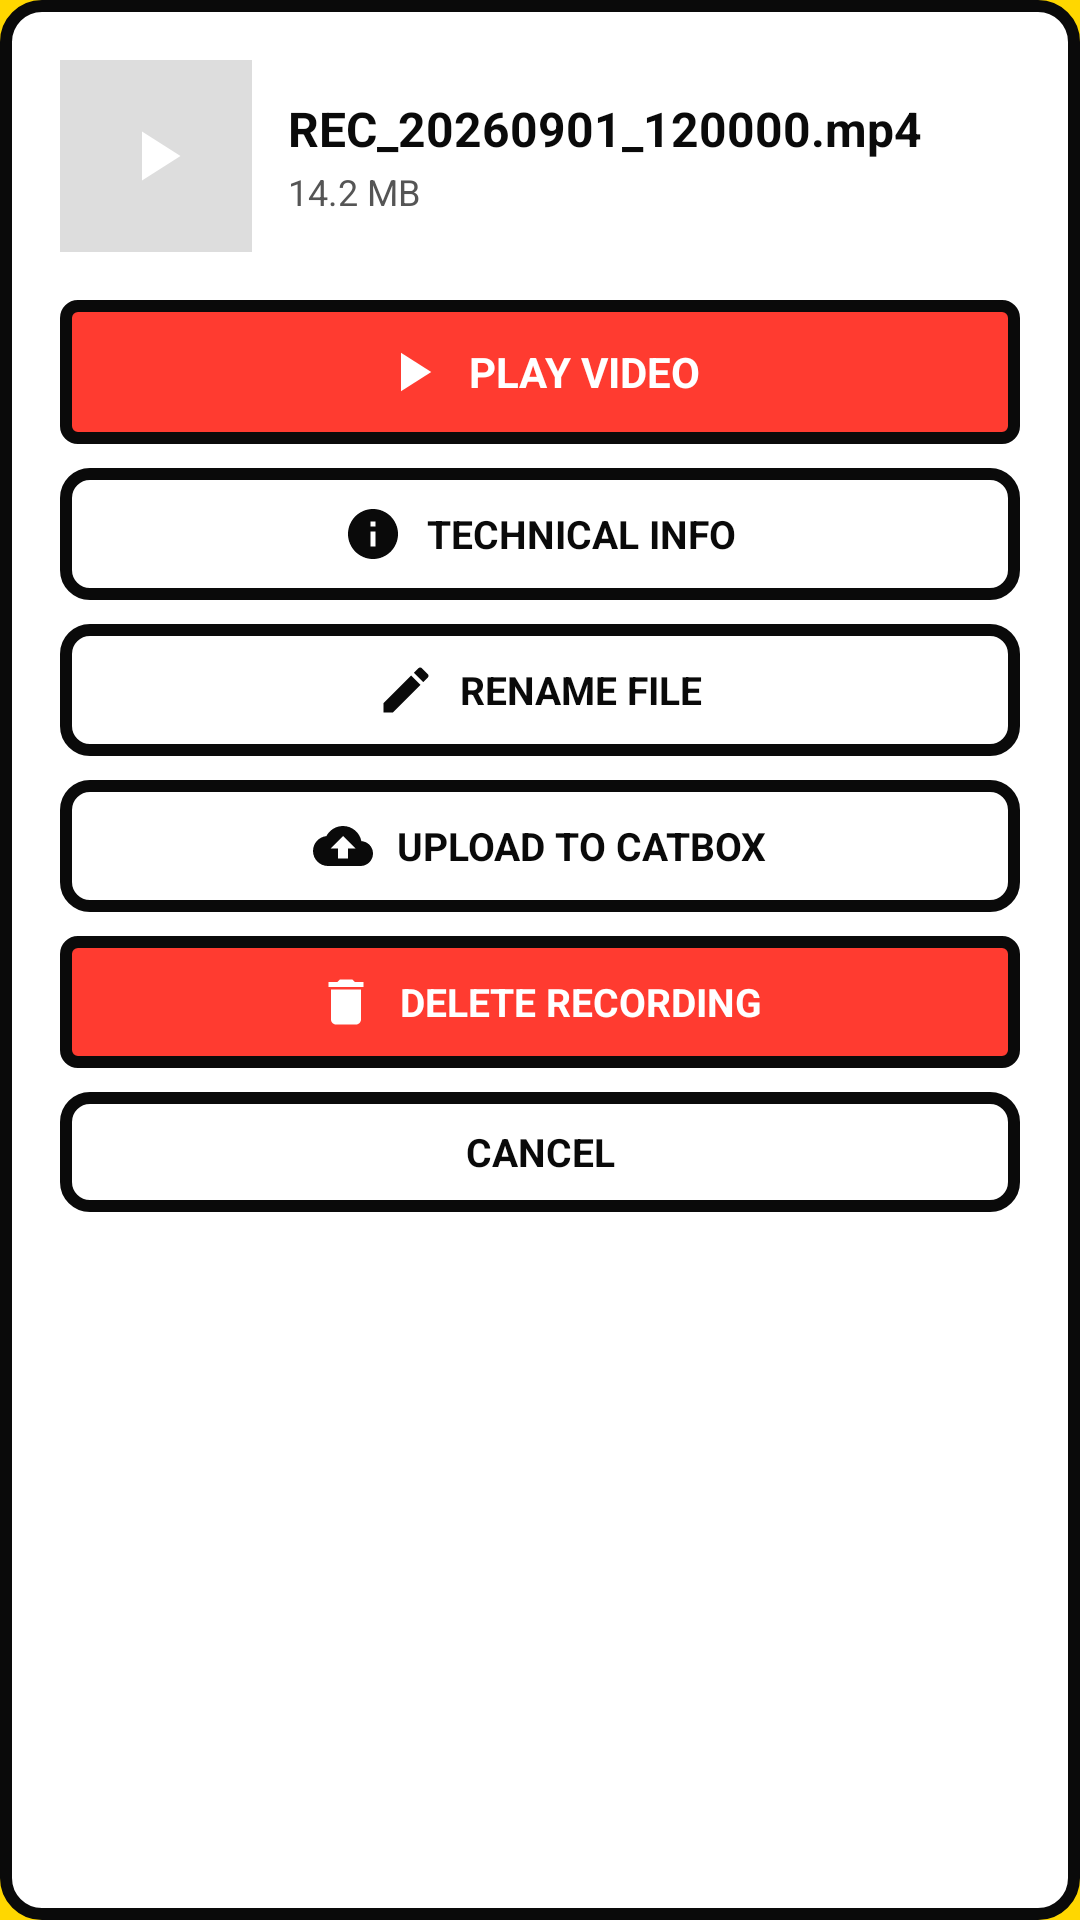

Locate icon controls on the screen. Image size 1080×1920, boxes as [x1=x1, y1=y1, x2=x2, y2=y2].
play arrow: [x1=142, y1=132, x2=179, y2=180]
